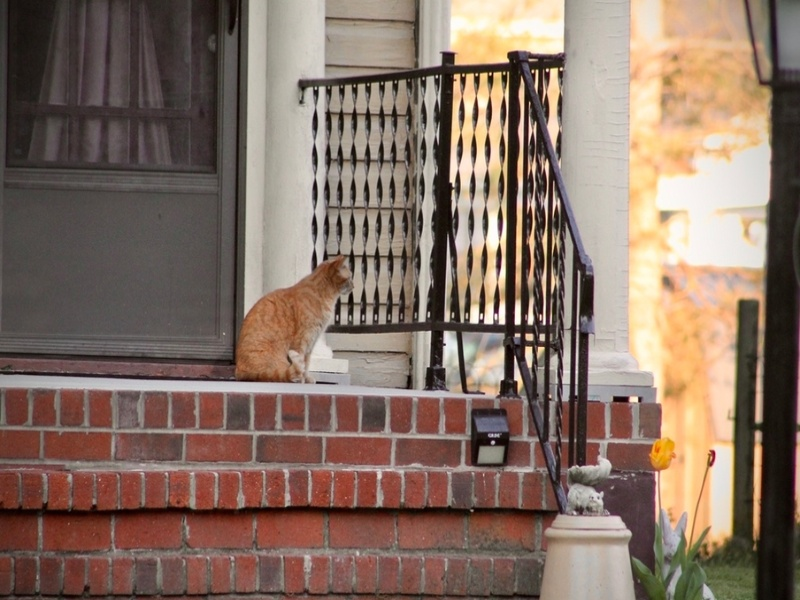cat: (231, 252, 360, 382)
